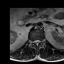CCS_normal: (36, 37, 38, 48)
LFS_normal: (40, 37, 42, 44)
LLS_normal: (38, 37, 40, 44)
RFS_normal: (31, 38, 33, 45)
RLS_normal: (33, 38, 36, 45)
